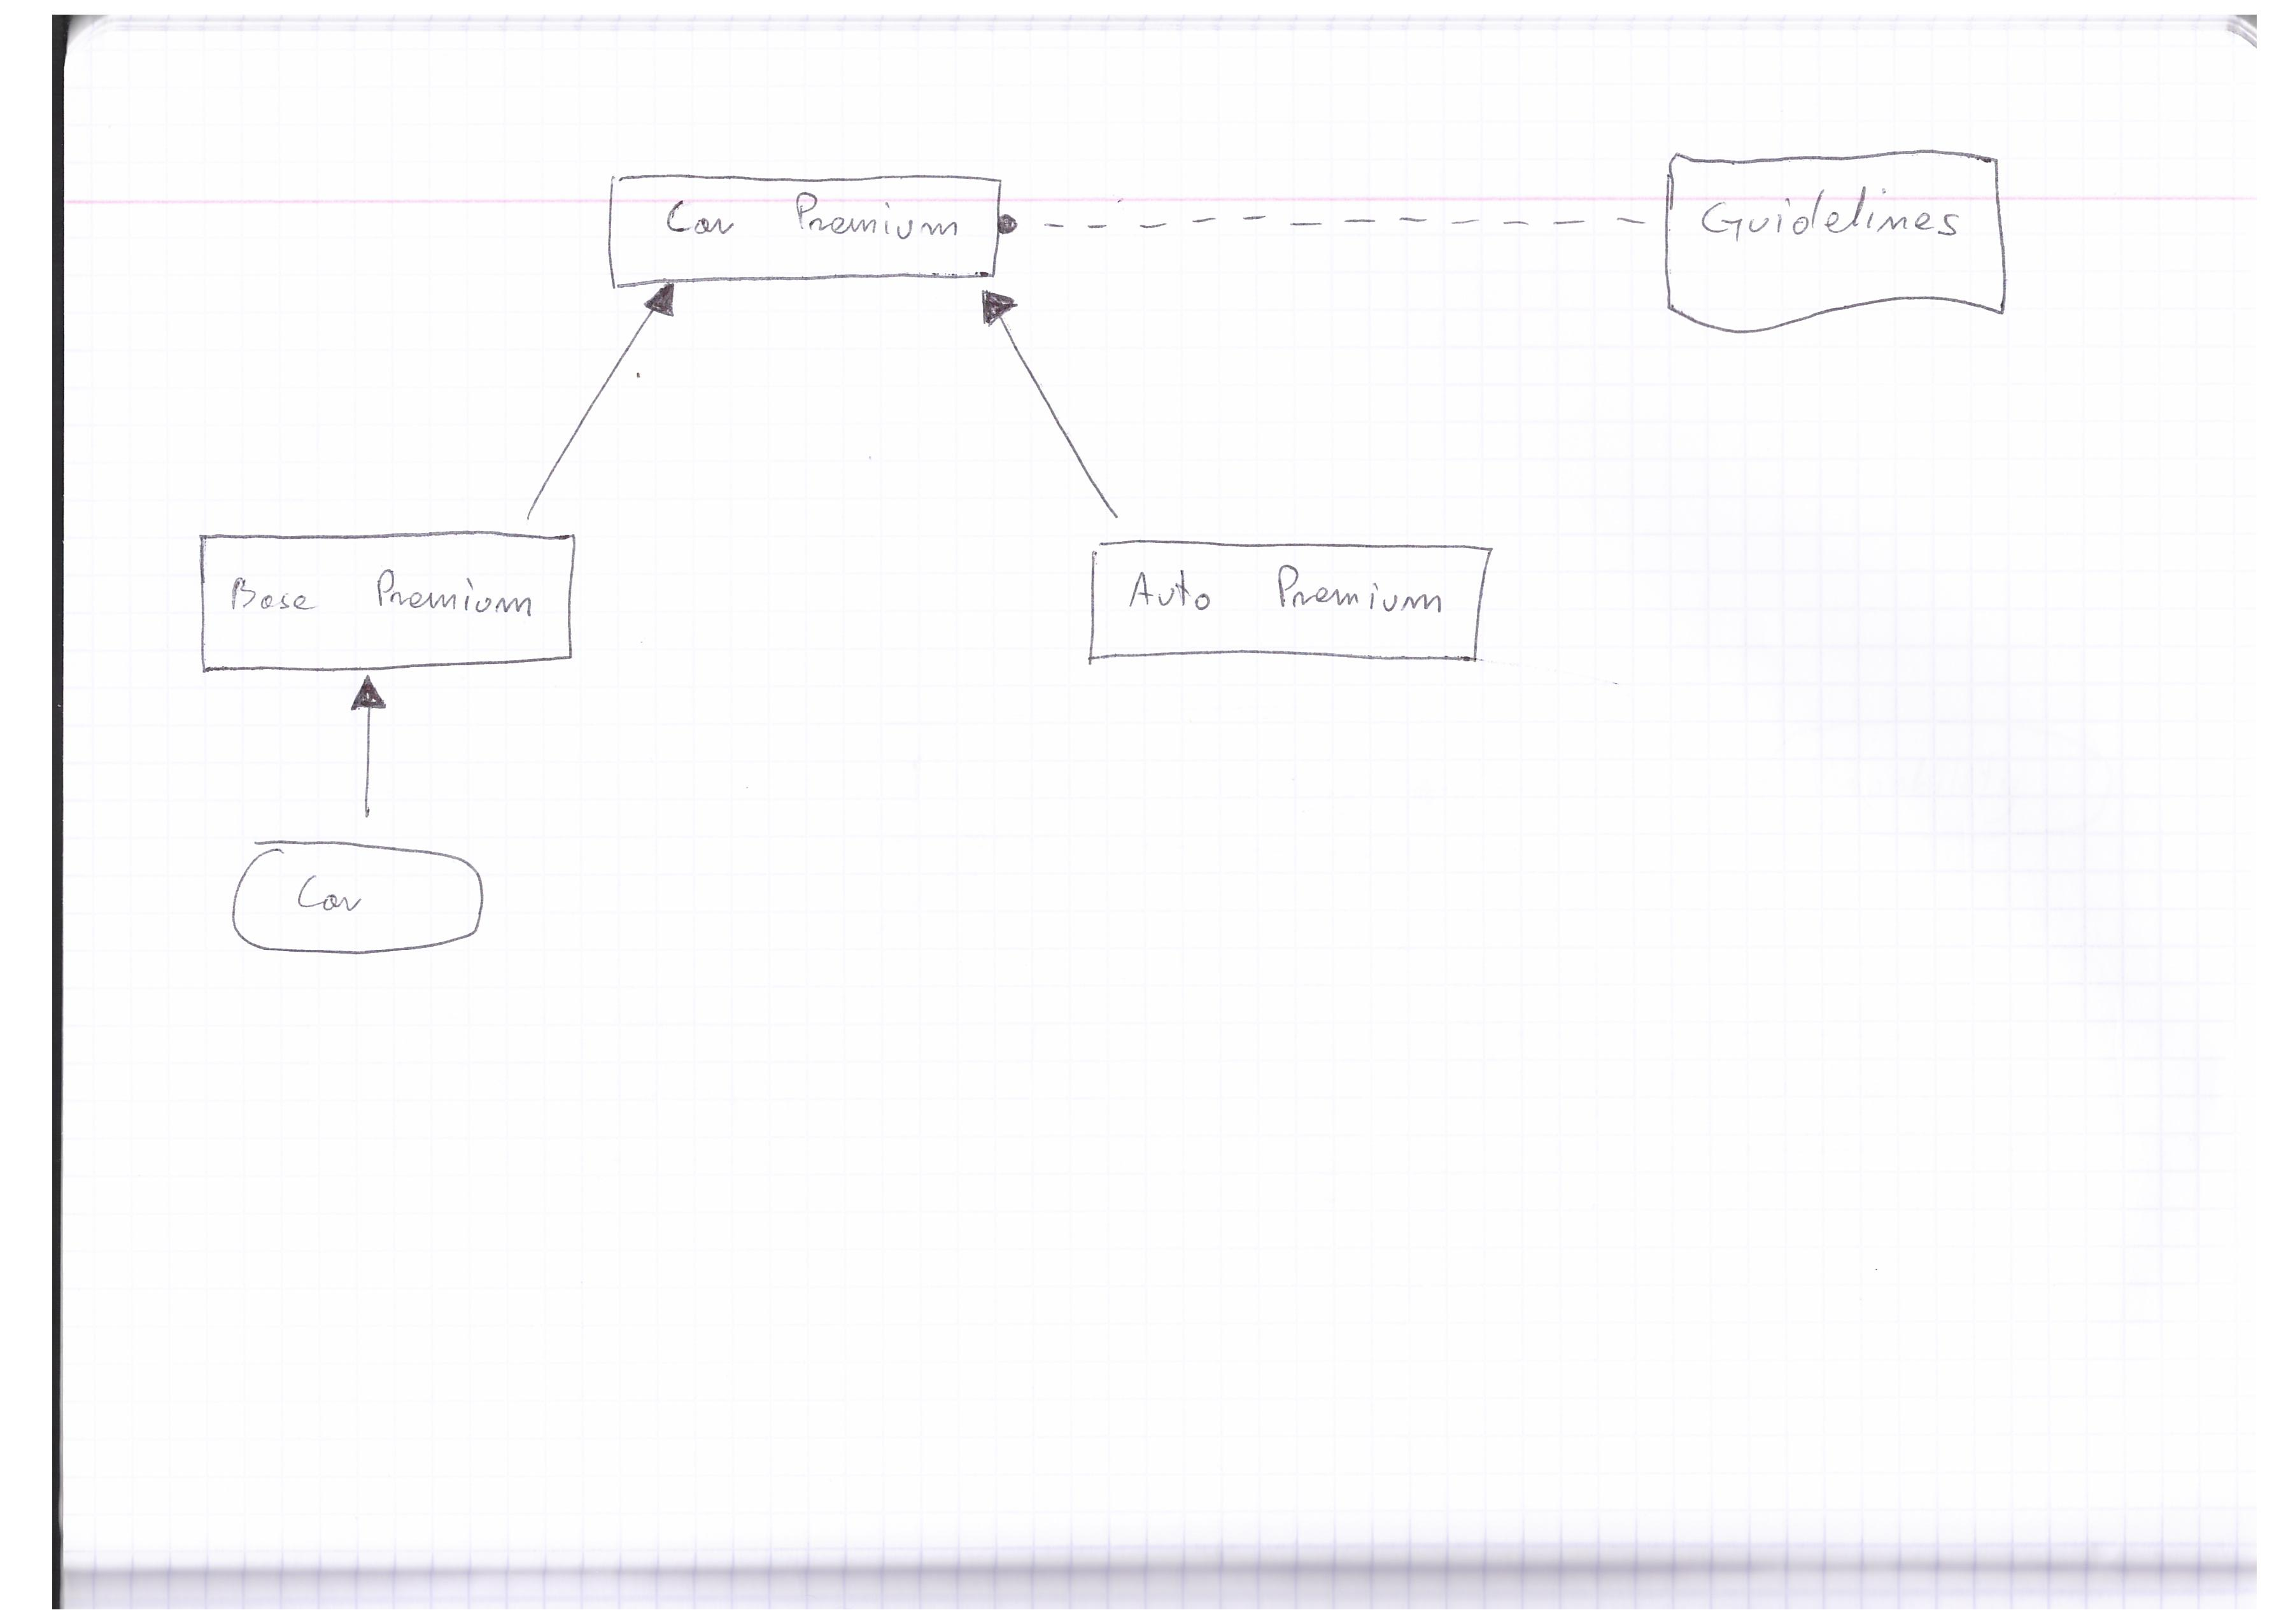arrow_authority_requirement: (993, 197, 1664, 251)
arrow_information_requirement: (490, 279, 694, 529), (958, 283, 1139, 527), (336, 670, 395, 833)
node_decision: (1074, 527, 1515, 687), (176, 526, 597, 671), (592, 162, 1005, 285)
node_input_data: (220, 823, 511, 970)
node_knowledge_source: (1659, 142, 2028, 350)
text: (214, 559, 550, 642), (1121, 555, 1458, 636), (1690, 176, 1979, 257), (647, 186, 977, 255), (285, 856, 387, 930)
